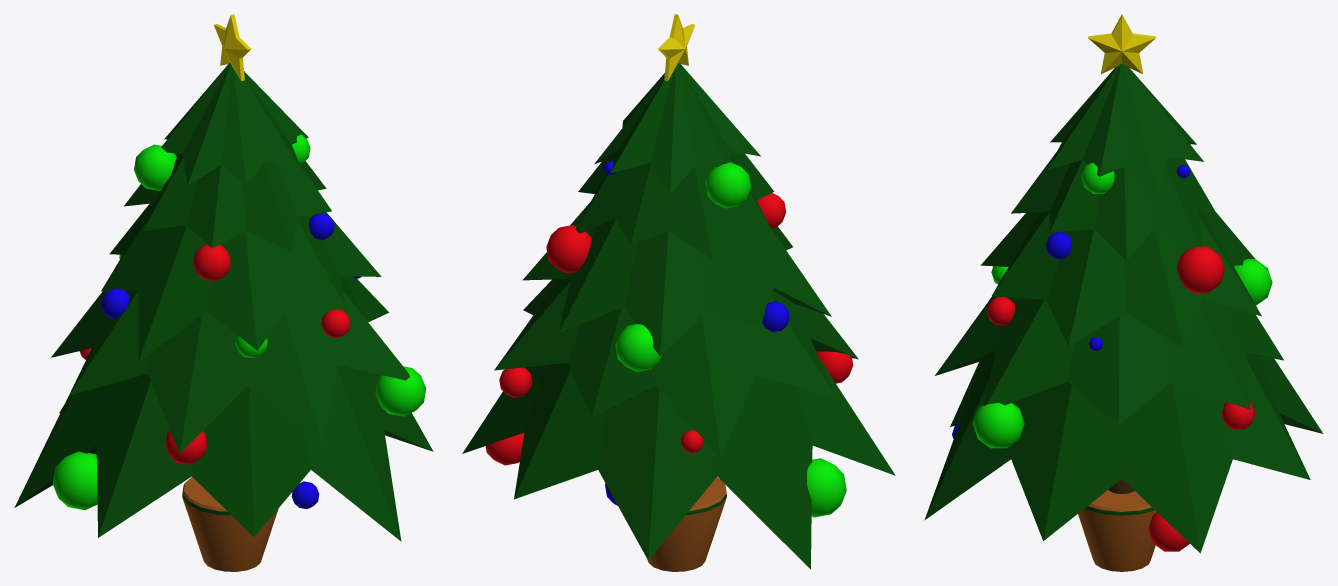
The model's file is SM_ChristmasTreeX.glb.
The picture shows the model from 3 angles, left to right: view 1: azimuth 30°, elevation 25°; view 2: azimuth 150°, elevation 25°; view 3: azimuth 270°, elevation 25°; orthographic projection.
Visible parts, largest first — view 1: SM_ChristmasTree; view 2: SM_ChristmasTree; view 3: SM_ChristmasTree.
Part boxes in pixels (x1,y1,x2,y2): SM_ChristmasTree: [14, 14, 433, 571]; SM_ChristmasTree: [462, 14, 895, 571]; SM_ChristmasTree: [924, 14, 1323, 571].
Bounding box in the file's own units: 3.47 × 5.13 × 3.41.
